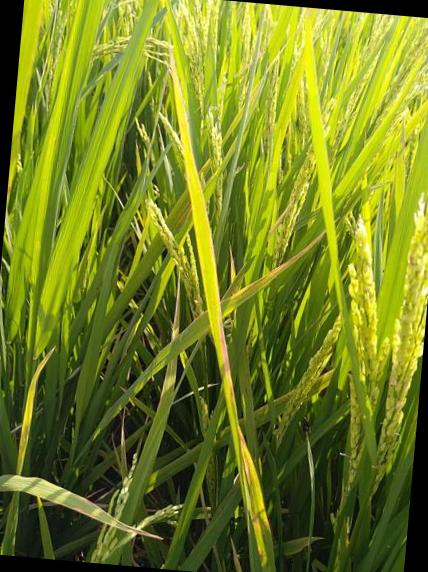Leaf Blight: (170, 61, 276, 572), (0, 474, 165, 541), (222, 243, 314, 320), (154, 363, 177, 461), (171, 268, 182, 339)
